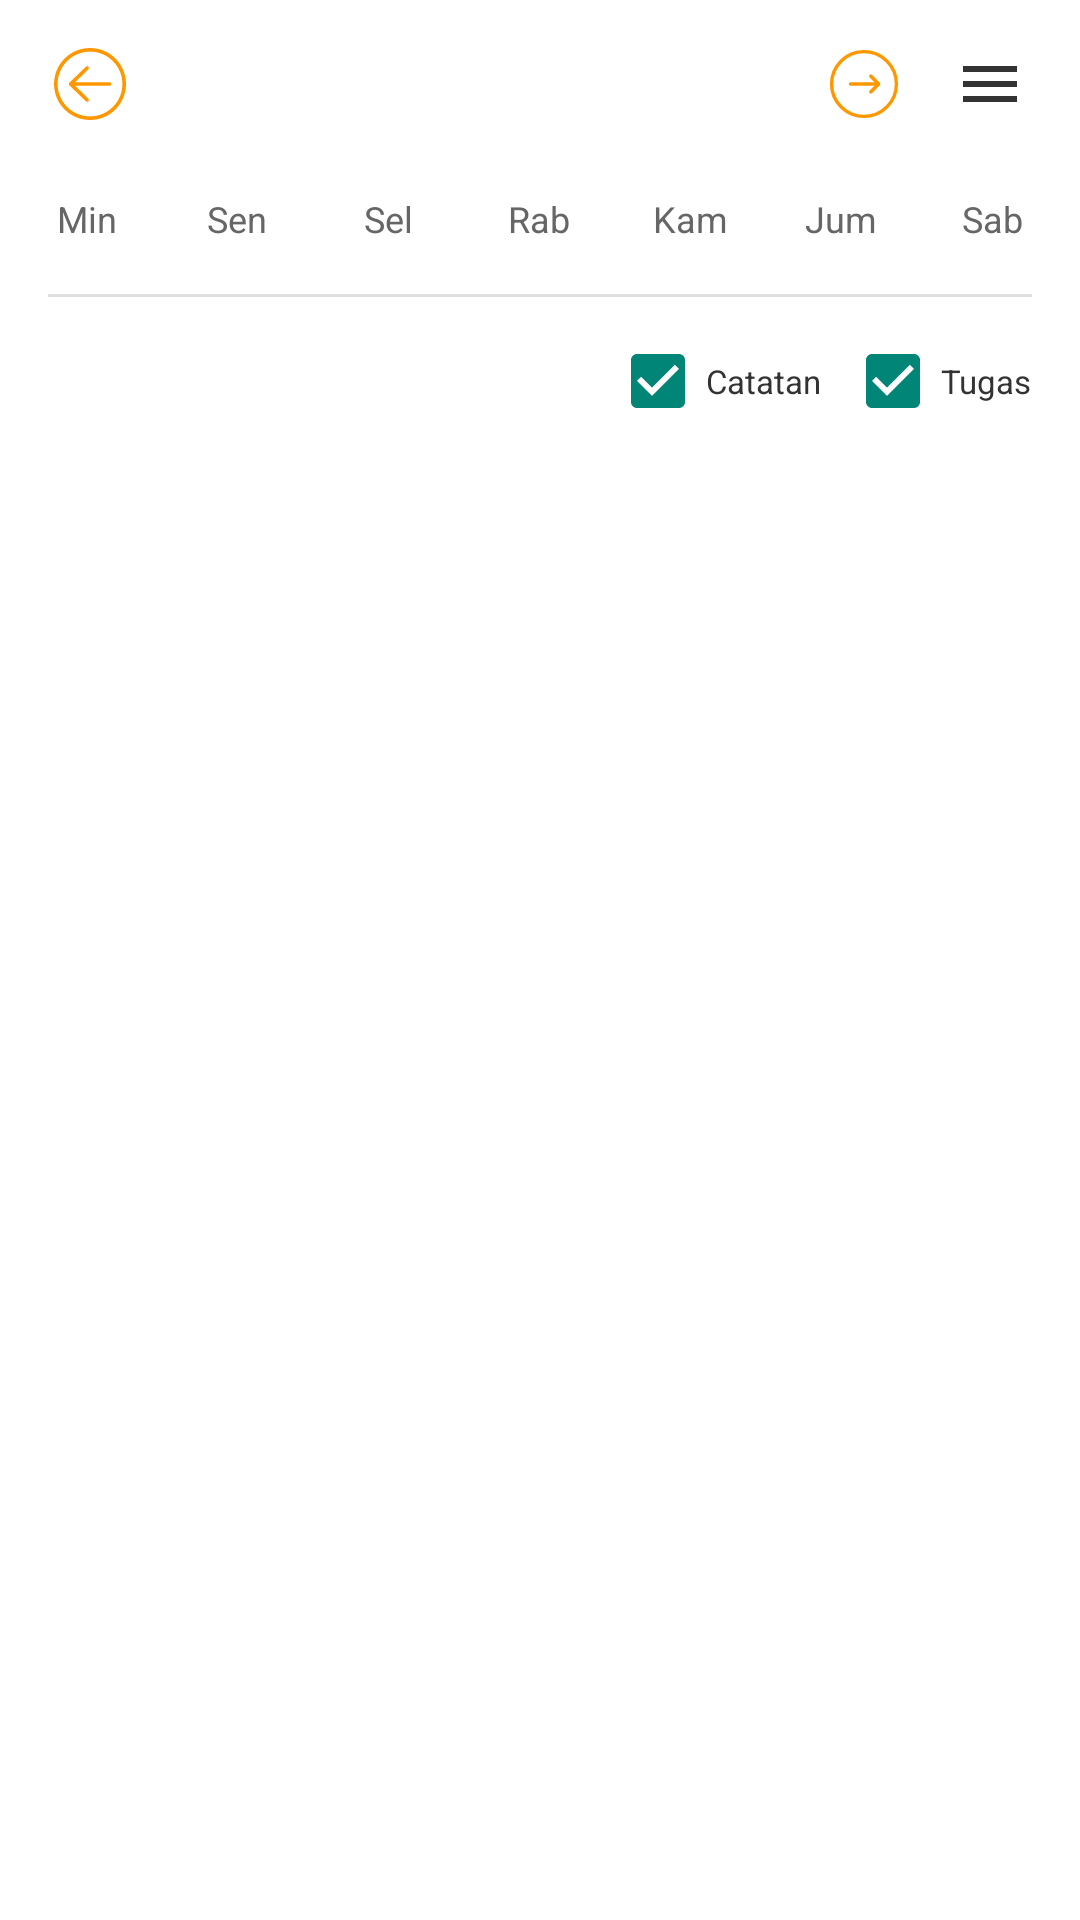

Icons on this 1080 × 1920 Android screen, each with its box as (x1, y1, x2, y2):
Bulan berikutnya: (830, 50, 898, 118)
Bulan sebelumnya: (54, 48, 126, 120)
Toggle tampilan: (963, 66, 1017, 102)
